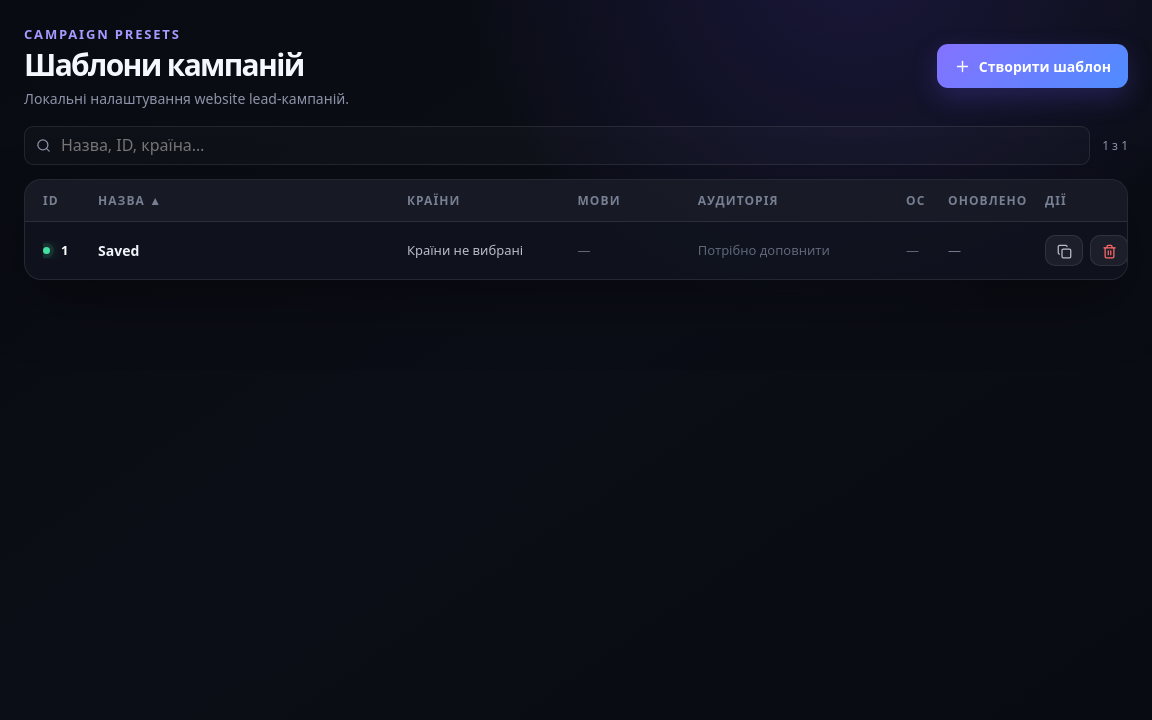
Test: Налаштування аудиторії та плейсментів шаблону › відновлює збережені налаштування під час редагування
Click the text "Saved" at (119, 250), box top-left (98, 241), bottom-right (139, 260)
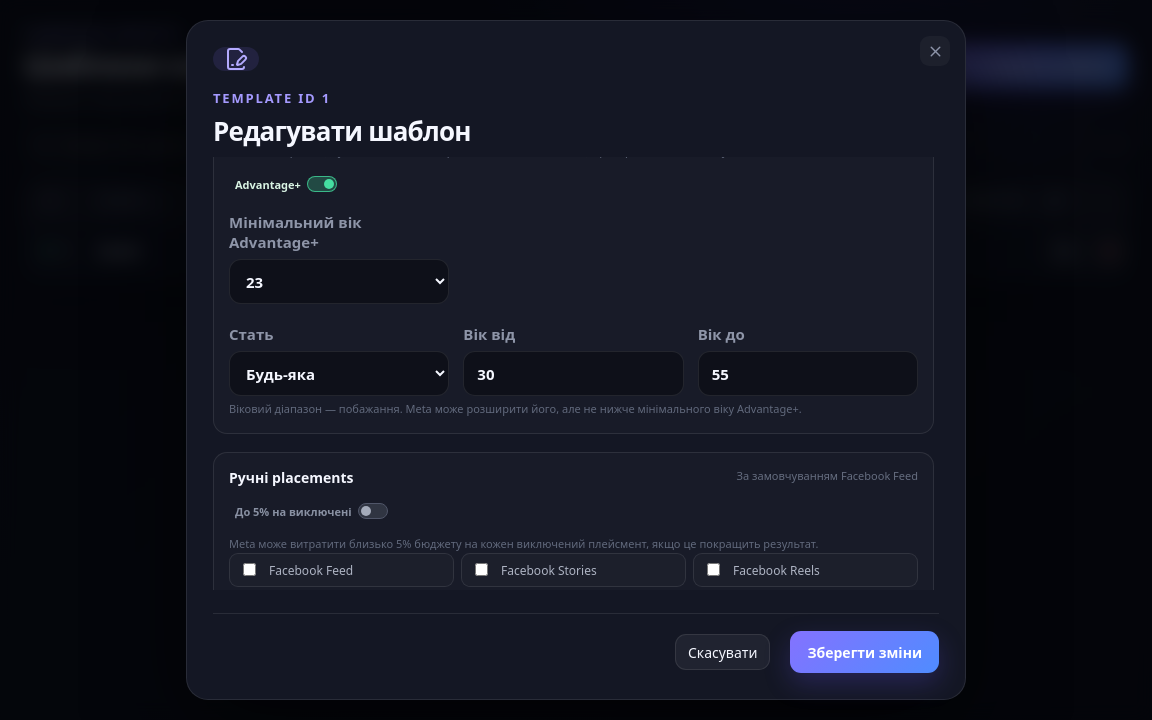
Expected: the switch named "Увімкнути Advantage+" is checked, top-left (229, 172), bottom-right (343, 196)
Expected: the switch named "Обмежені витрати на виключені плейсменти" is not checked, top-left (229, 499), bottom-right (394, 523)
Expected: the dropdown labelled "Мінімальний вік Advantage+" shows "23", top-left (229, 259), bottom-right (449, 304)
